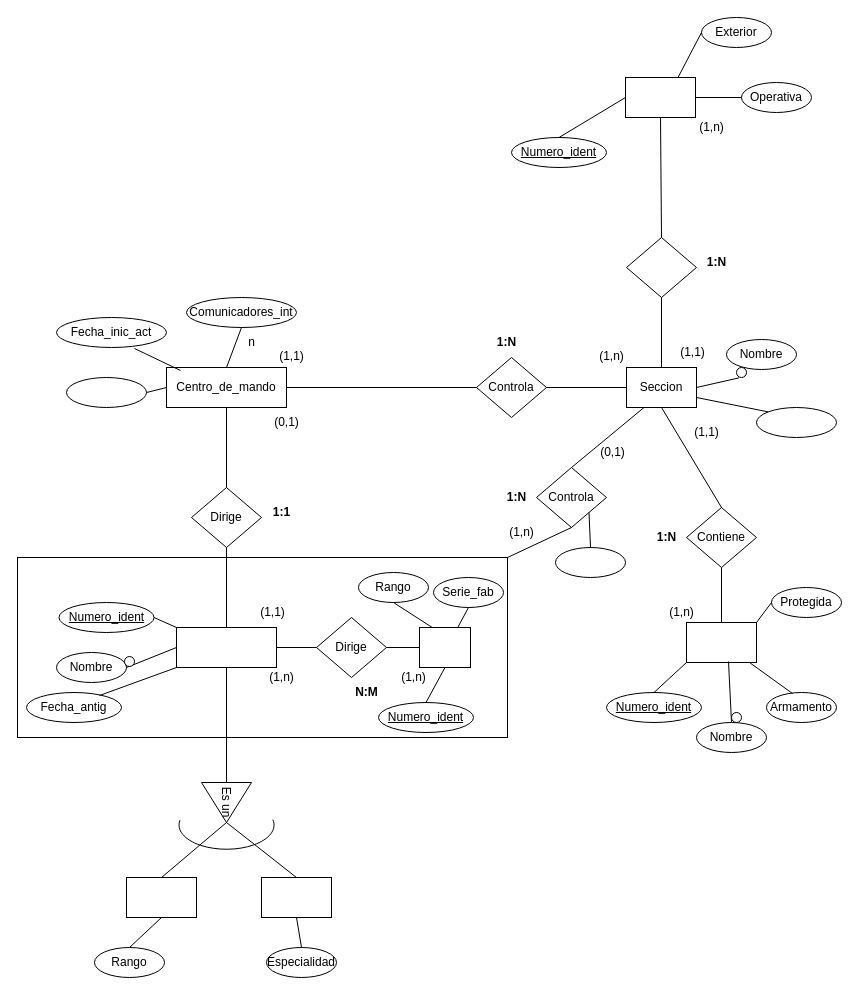
Image size: 859x995. Some labels were removed from this diagram. Here are the shapes that lost their labels. From the top down, the centre of each, then its label:
At point 660,97: "Compuerta".
At point 661,267: "Tiene".
At point 106,392: "Codigo_imp".
At point 796,422: "Codigo".
At point 590,562: "Turno".
At point 226,647: "Oficial_imperial".
At point 444,647: "Trooper".
At point 721,642: "Sala".
At point 161,897: "Militar".
At point 296,897: "Cientifico".
